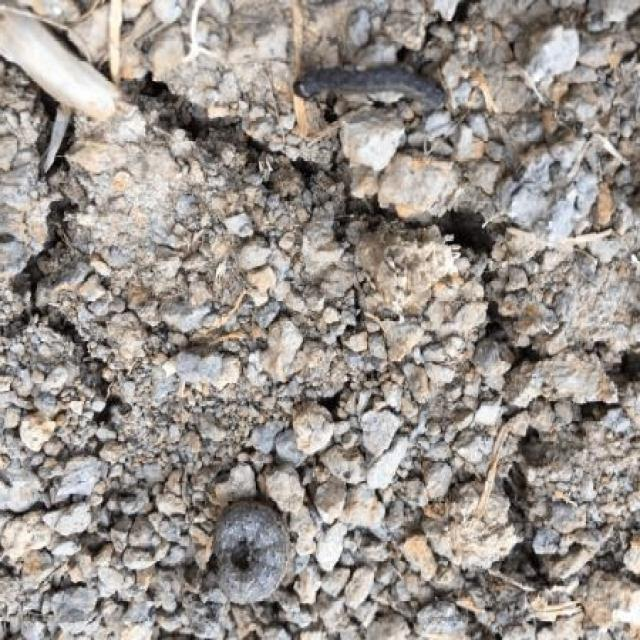black cutworm: (271, 51, 449, 126), (201, 497, 296, 600)
